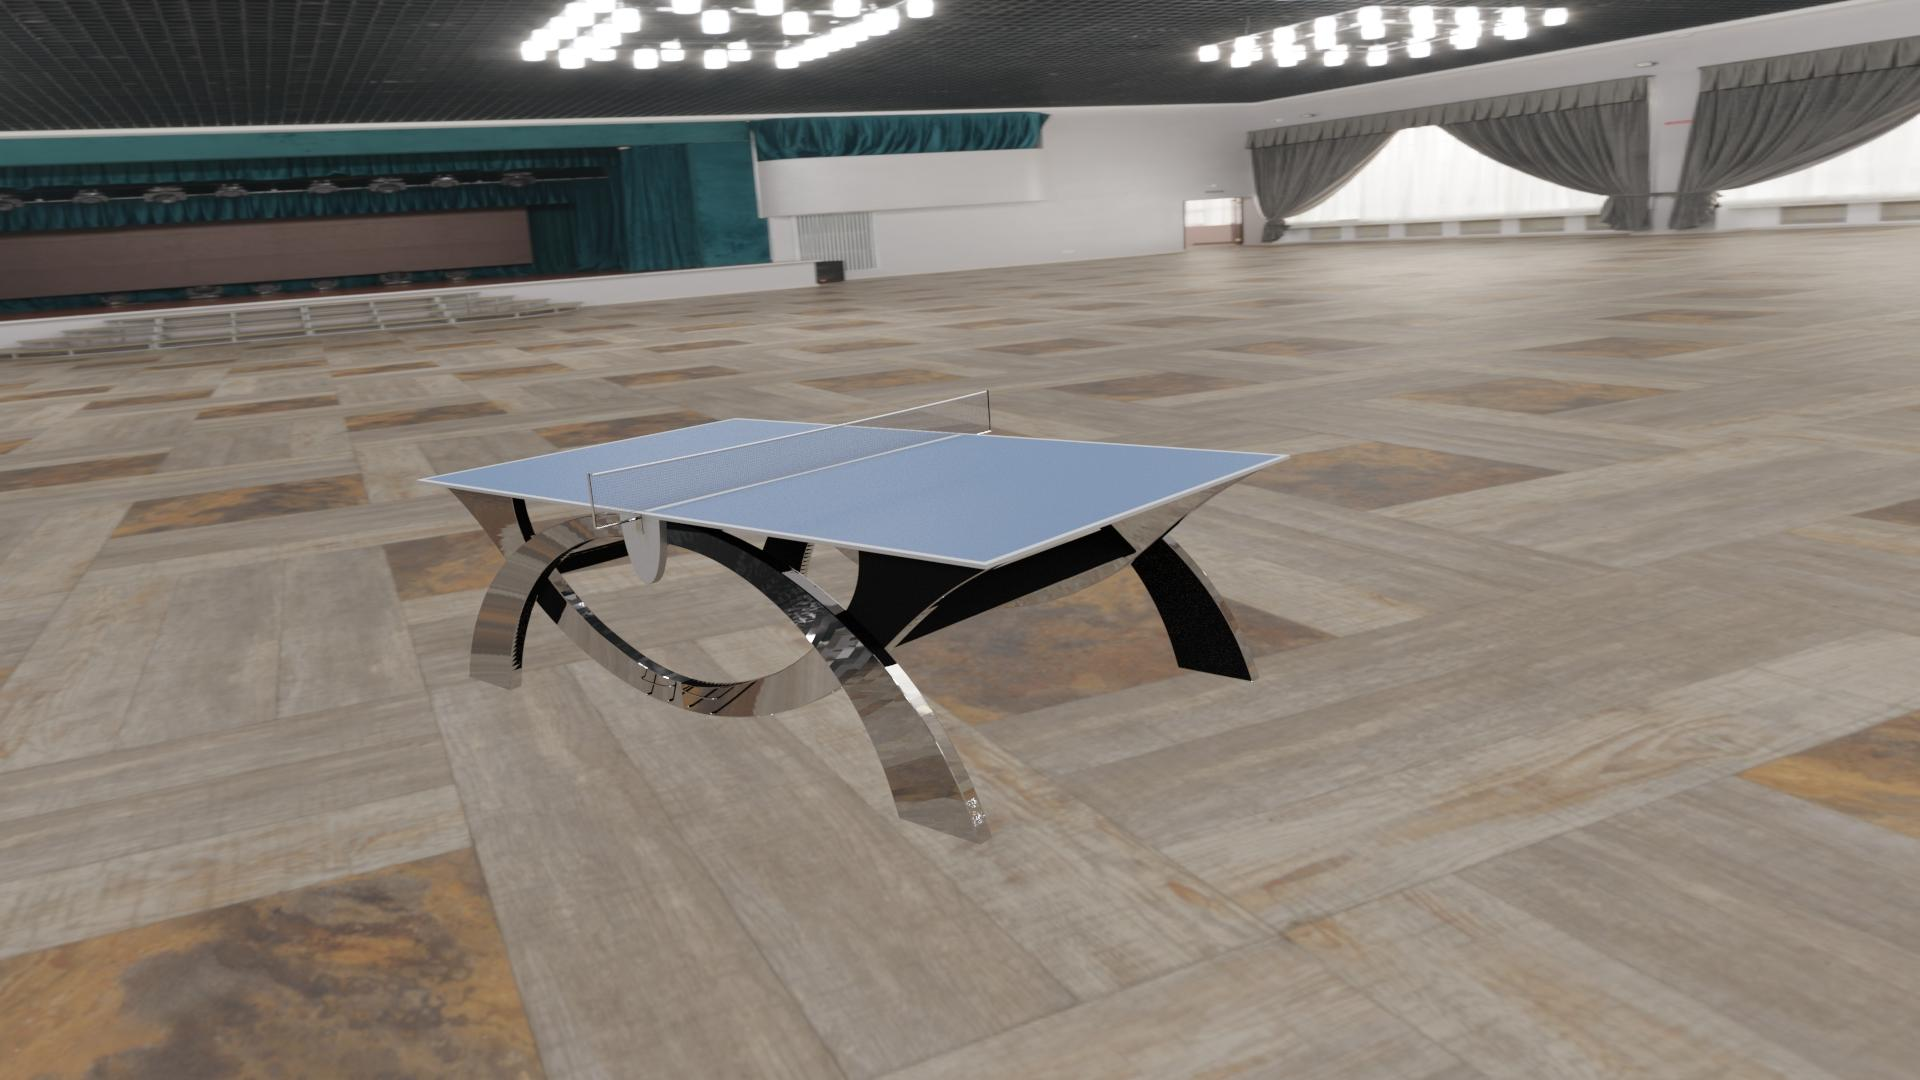table: (425, 419, 1282, 562)
